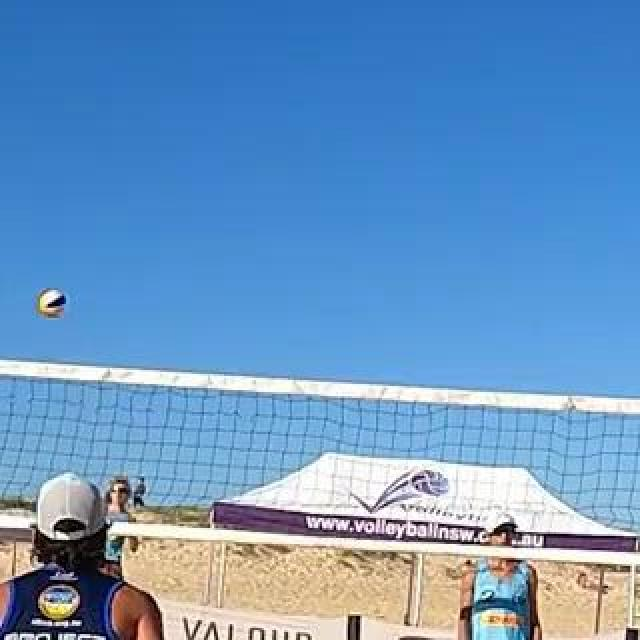volleyball: (37, 290, 69, 320)
